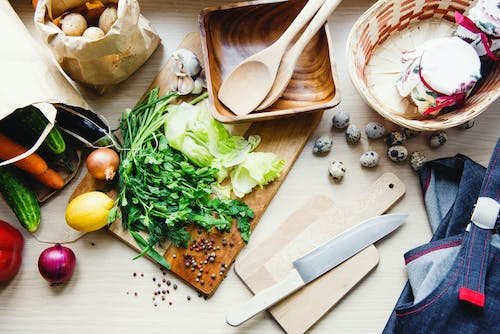knife: (224, 213, 410, 327)
